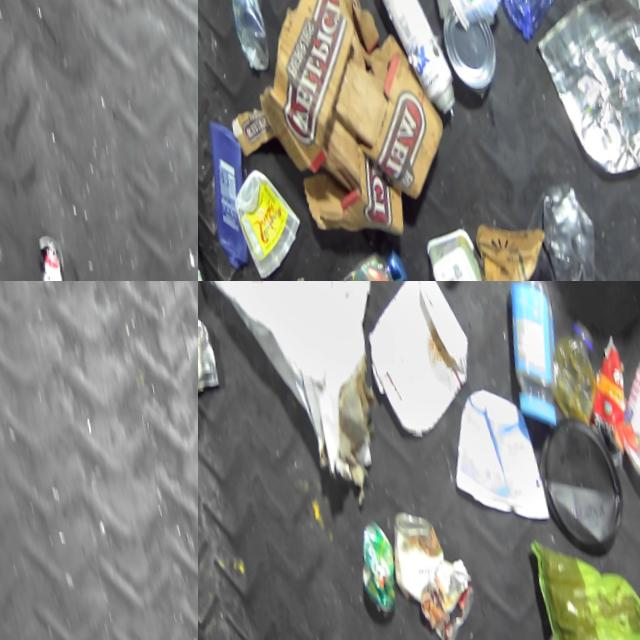can: (516, 0, 640, 173), (361, 0, 448, 114), (368, 493, 440, 603), (339, 510, 393, 612), (428, 0, 491, 84), (17, 228, 57, 281), (198, 306, 216, 400), (268, 269, 328, 281)
milk_jug: (344, 281, 480, 440)
plastic_bottle: (312, 236, 399, 281), (212, 0, 267, 70)
